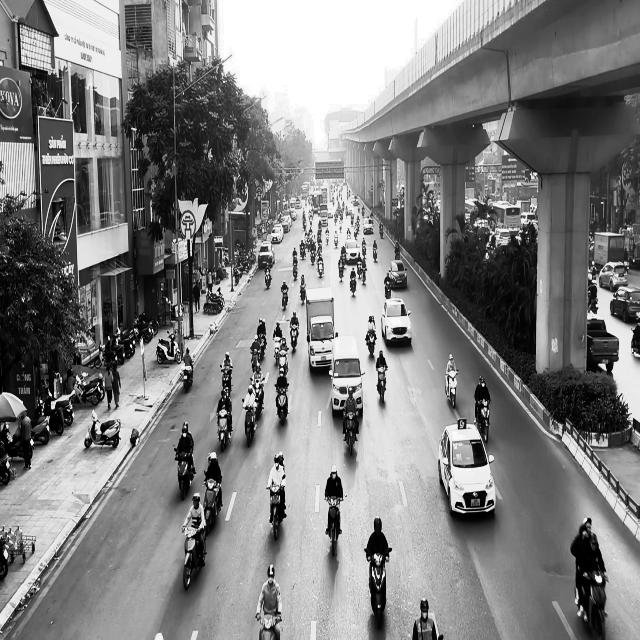car: (437, 418, 496, 517), (381, 298, 412, 346), (609, 286, 640, 322), (388, 260, 408, 288)
motorbike: (364, 546, 392, 629), (581, 566, 608, 639), (181, 522, 207, 590), (324, 494, 347, 557), (84, 410, 121, 449), (173, 445, 195, 500), (266, 480, 285, 540), (202, 475, 222, 532), (342, 406, 359, 456), (256, 610, 283, 640), (242, 398, 257, 448), (474, 398, 490, 443), (216, 407, 232, 452), (274, 382, 289, 426), (444, 370, 458, 408), (376, 365, 388, 403), (180, 360, 194, 392), (365, 330, 377, 356), (289, 322, 299, 351), (281, 284, 289, 310), (264, 266, 272, 288), (384, 278, 391, 299)
